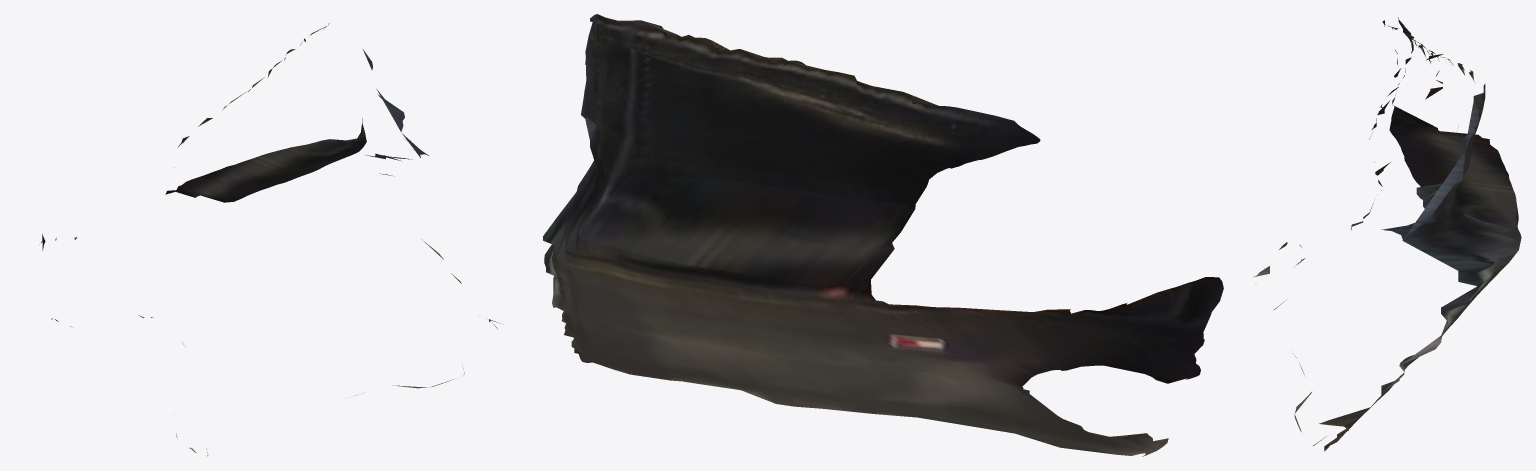
File: observed-surface.glb
3 renders of one model, left to right at view 1: azimuth 30°, elevation 25°; view 2: azimuth 150°, elevation 25°; view 3: azimuth 270°, elevation 25°, orthographic. The views are drawn at different scales.
Parts seen in each view (by area): view 1: geometry_0; view 2: geometry_0; view 3: geometry_0.
Boxes of the visible parts, left/top/right/bottom form: geometry_0: left=41, top=23, right=500, bottom=456; geometry_0: left=543, top=14, right=1223, bottom=456; geometry_0: left=1253, top=17, right=1521, bottom=451.
Size of the model in its own units: 0.6517 by 0.4225 by 0.311.
1 material, 1 textured.
